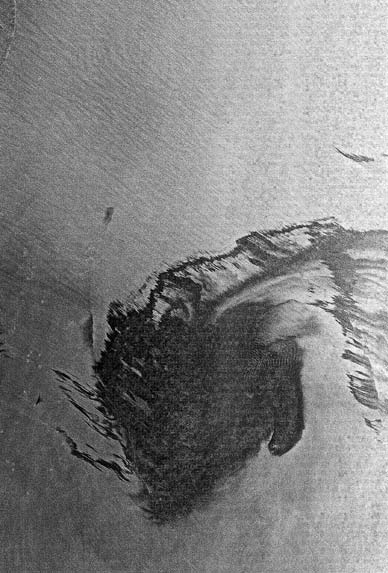anomaly: (49, 218, 388, 537)
